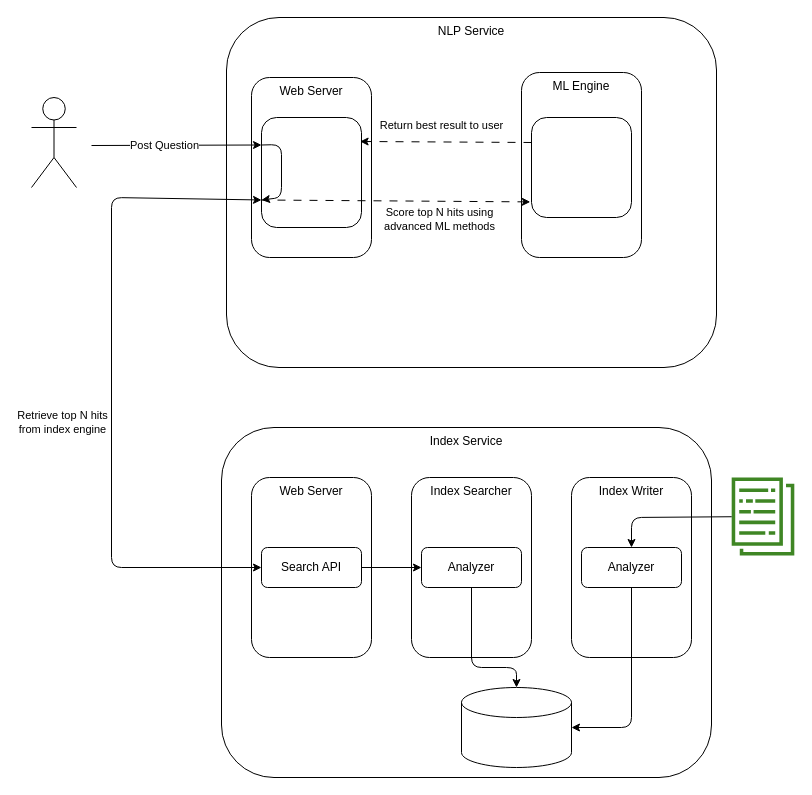
The diagram is 812 pixels wide and 795 high, and some of its shapes have lost their labels. The shapes that lost their labels are listed below. From the top down, each one's centre as x and y in pixels, then its label:
At point 53,142: "User".
At point 311,172: "Q&A API".
At point 581,167: "Similarity Scoring".
At point 762,516: "Dataset".
At point 516,727: "Index".
